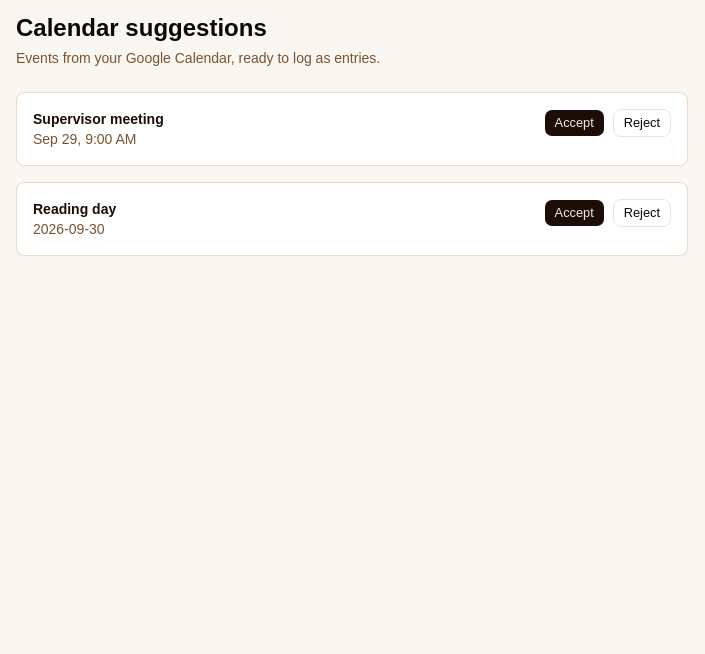
Test case: SuggestionsPage › maps field errors from the server onto their inputs and toasts the rest
Click the button "Accept" in the row of "Supervisor meeting" at (574, 123), box top-left (544, 109), bottom-right (605, 137)
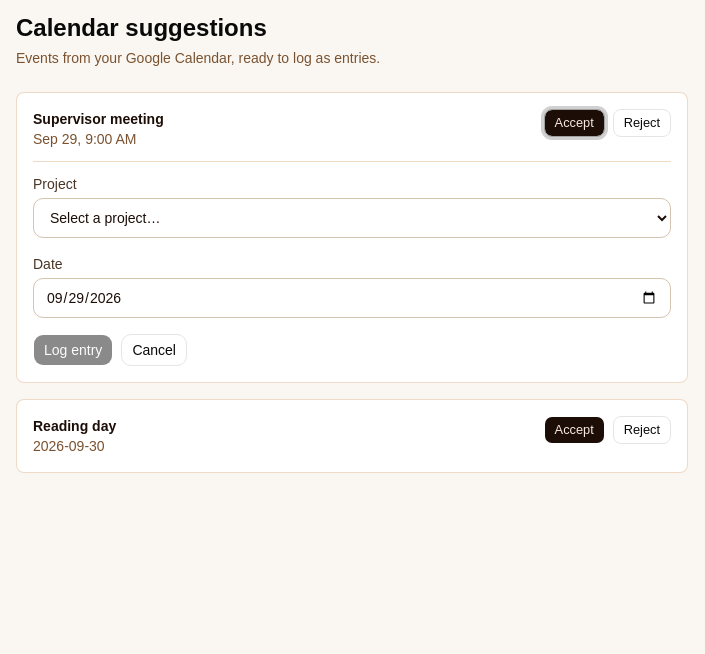
Select "Thesis" in the dropdown labelled "Project" at (352, 218), box top-left (33, 198), bottom-right (671, 238)
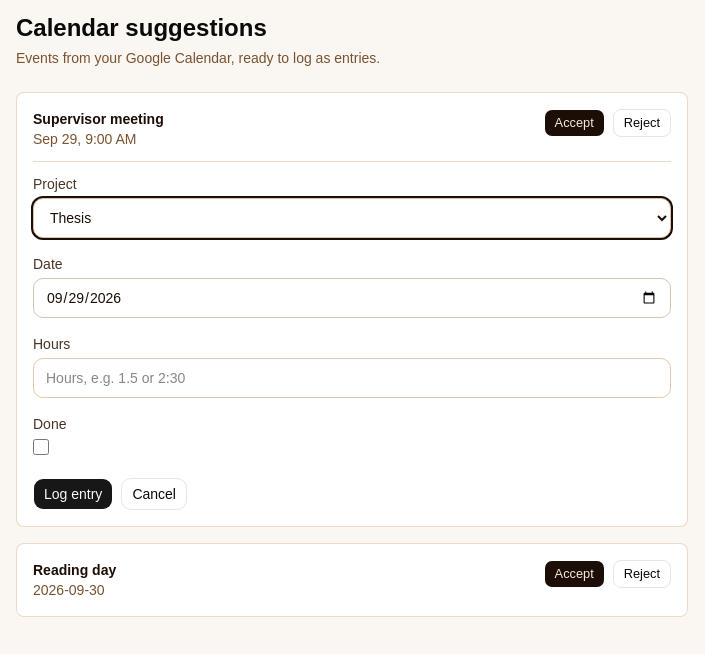
Type "2" into the field labelled "Hours" at (352, 378), box top-left (33, 358), bottom-right (671, 398)
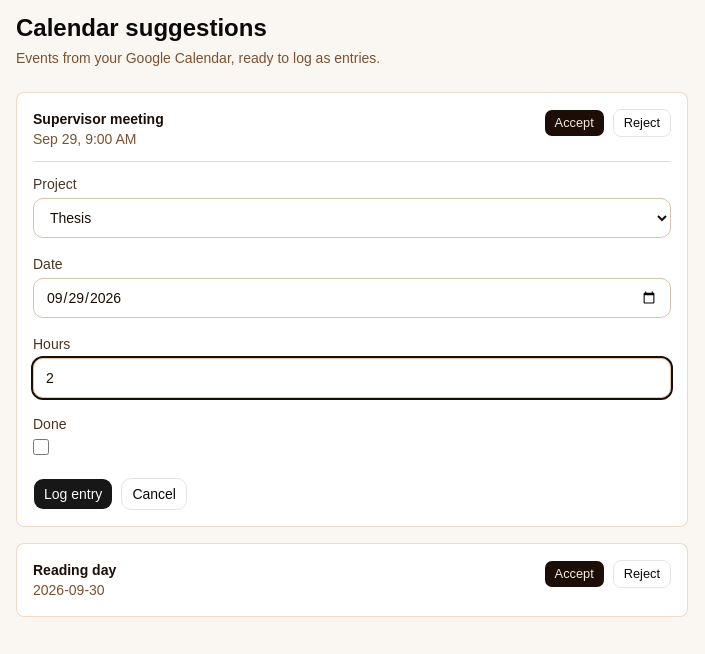
Click the button "Log entry" at (73, 494), box top-left (33, 478), bottom-right (113, 510)
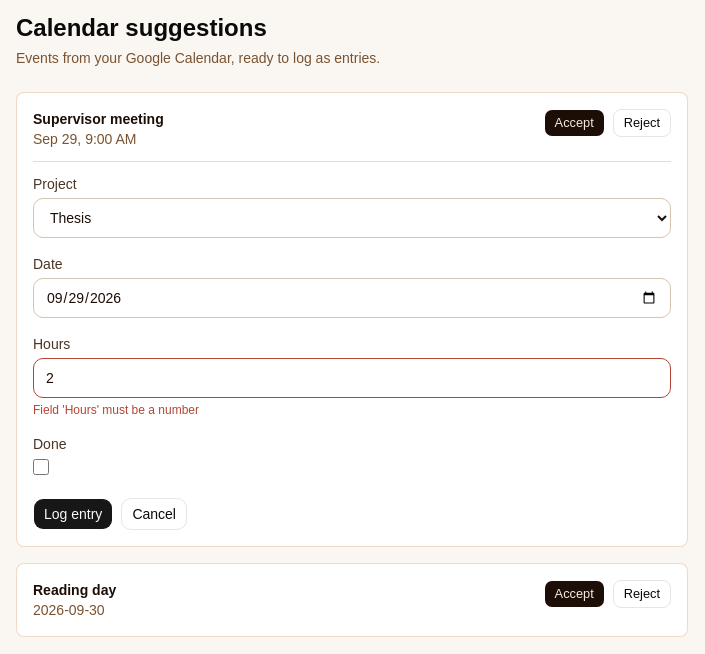
Expected: the text "Field 'Hours' must be a number" is shown, top-left (33, 403), bottom-right (199, 417)
